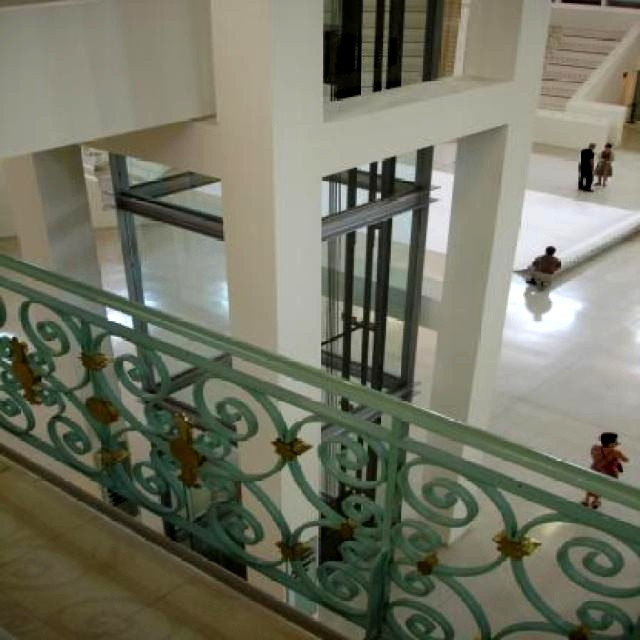stair: (540, 21, 637, 110)
